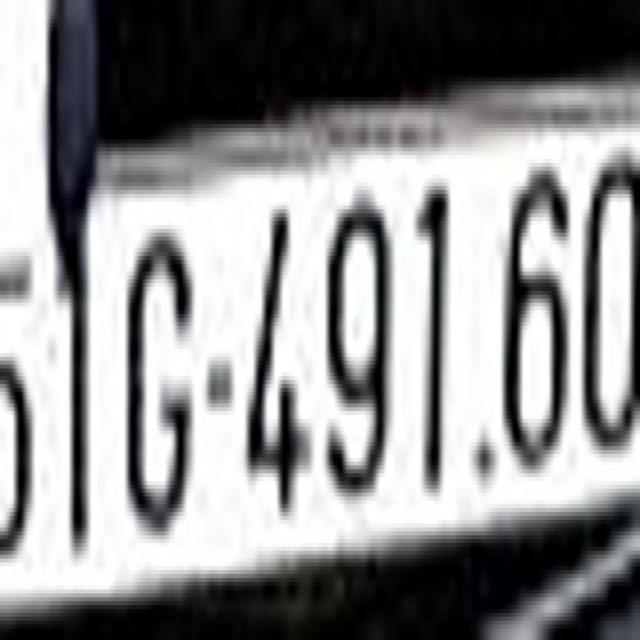0: (579, 124, 640, 458)
1: (51, 186, 93, 551), (408, 155, 446, 508)
6: (499, 132, 568, 465), (244, 190, 308, 524)
9: (331, 194, 392, 504)
G: (119, 202, 196, 535)
